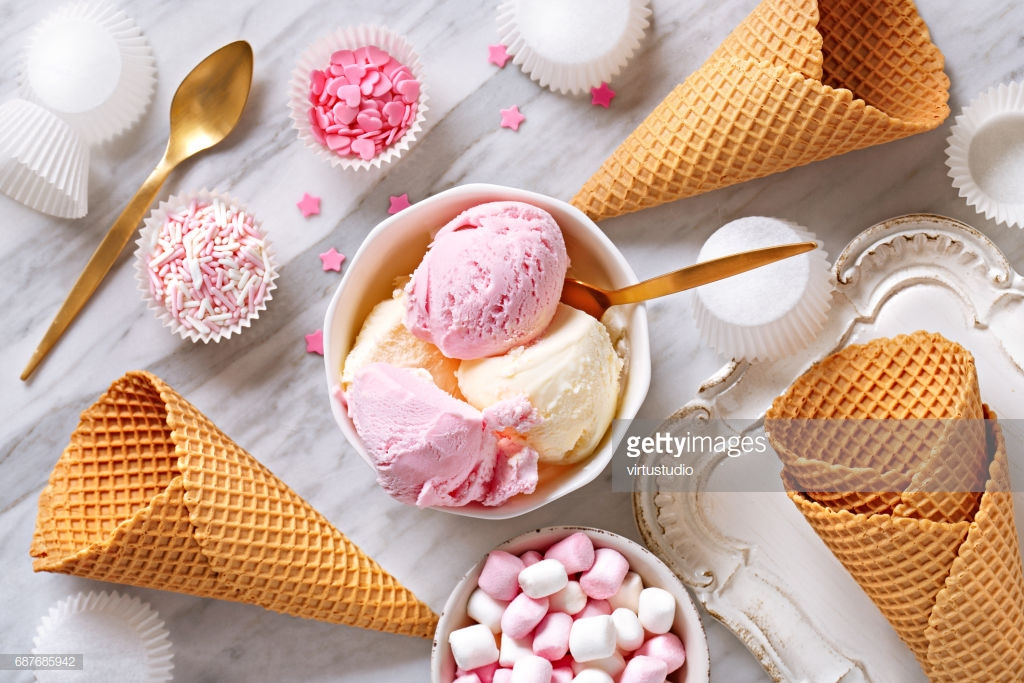ice-cream: (346, 366, 542, 510), (405, 200, 571, 358), (460, 305, 616, 460), (343, 300, 466, 406)
